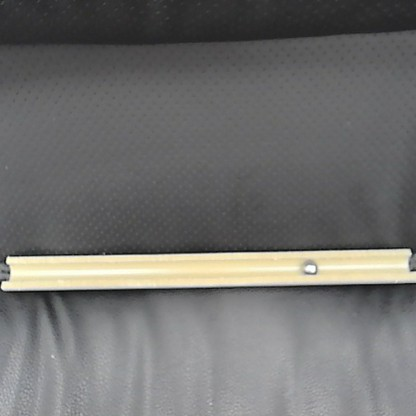ironball: (298, 257, 318, 275)
